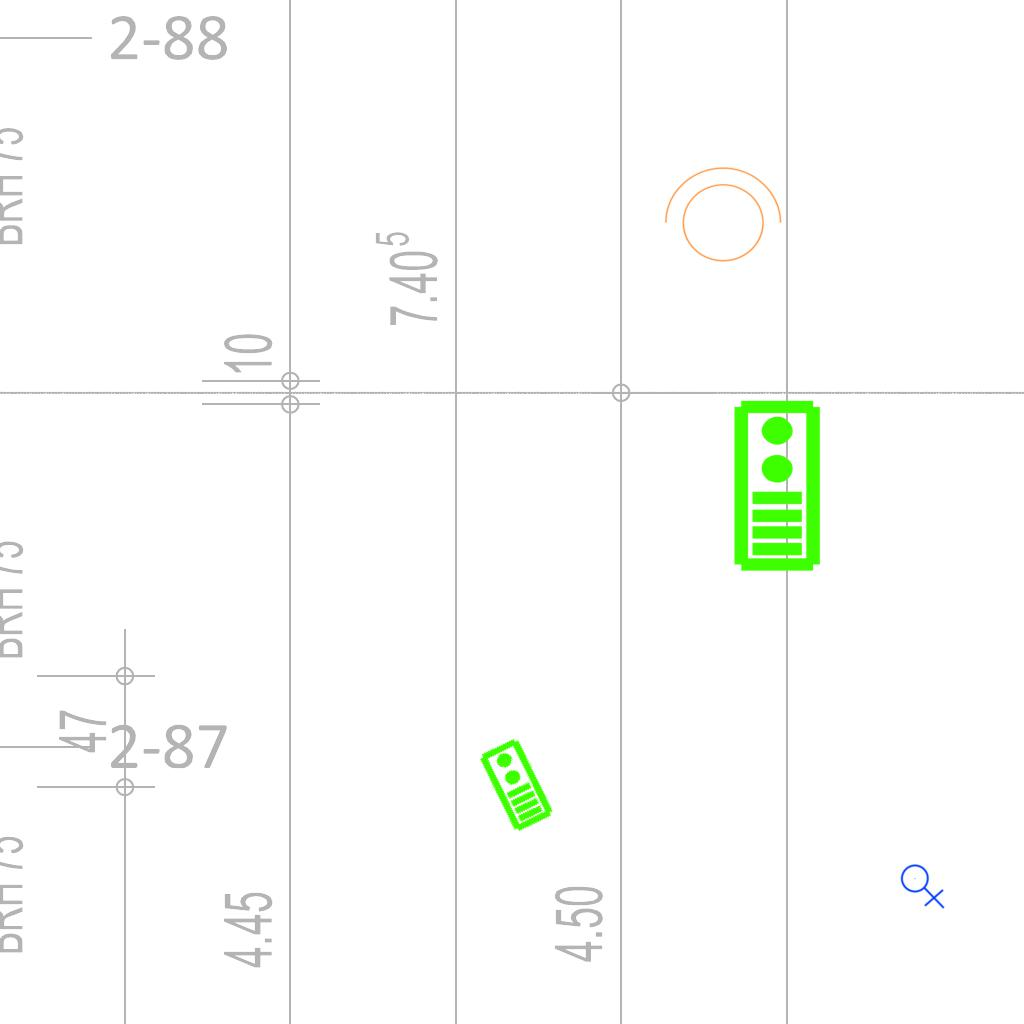Elektroanschluss_allgemein_230V_Geraeteanschlussdose_230V: (900, 860, 947, 909)
Gegensprechanlage_mit_Video: (728, 397, 823, 573), (475, 735, 556, 835)
Scheinwerfer_fuer_Alarmbeleuchtung: (654, 162, 786, 274)
